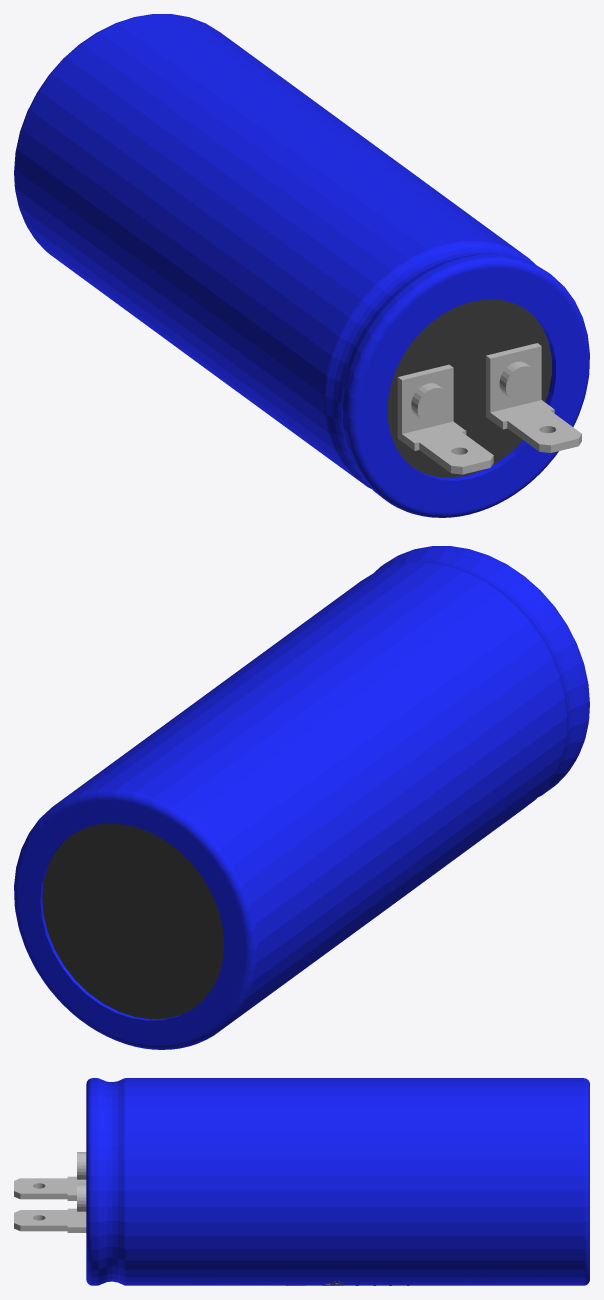
The model's file is Конденсатор CD60 100 uF 300 V.obj.
3 renders of one model, top to bottom at view 1: azimuth 30°, elevation 25°; view 2: azimuth 150°, elevation 25°; view 3: azimuth 270°, elevation 25°, orthographic. The views are drawn at different scales.
Visible parts, largest first — view 1: Конденсатор_CD60_100_uF_300_V; view 2: Конденсатор_CD60_100_uF_300_V; view 3: Конденсатор_CD60_100_uF_300_V.
Part boxes in pixels (x1,y1,x2,y2): Конденсатор_CD60_100_uF_300_V: [14, 14, 589, 517]; Конденсатор_CD60_100_uF_300_V: [14, 546, 589, 1049]; Конденсатор_CD60_100_uF_300_V: [14, 1078, 589, 1285].
Bounding box in the file's own units: 0.00821 × 0.00822 × 0.0228.
